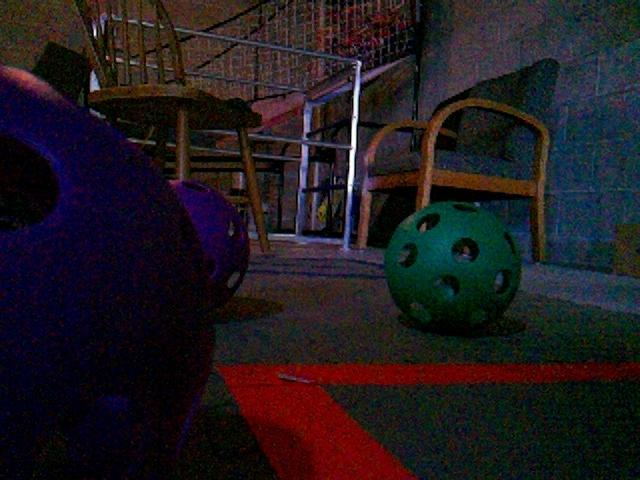Green: (381, 200, 523, 332)
Purple: (0, 61, 251, 477), (172, 181, 249, 309)
